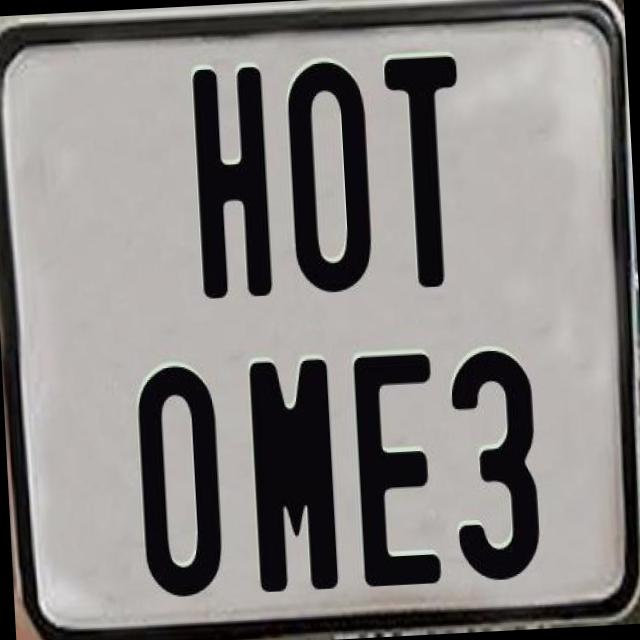0: (134, 364, 230, 608), (281, 58, 377, 299)
3: (446, 349, 542, 582)
E: (352, 352, 442, 590)
H: (188, 65, 271, 304)
M: (248, 357, 344, 592)
T: (381, 52, 473, 290)
